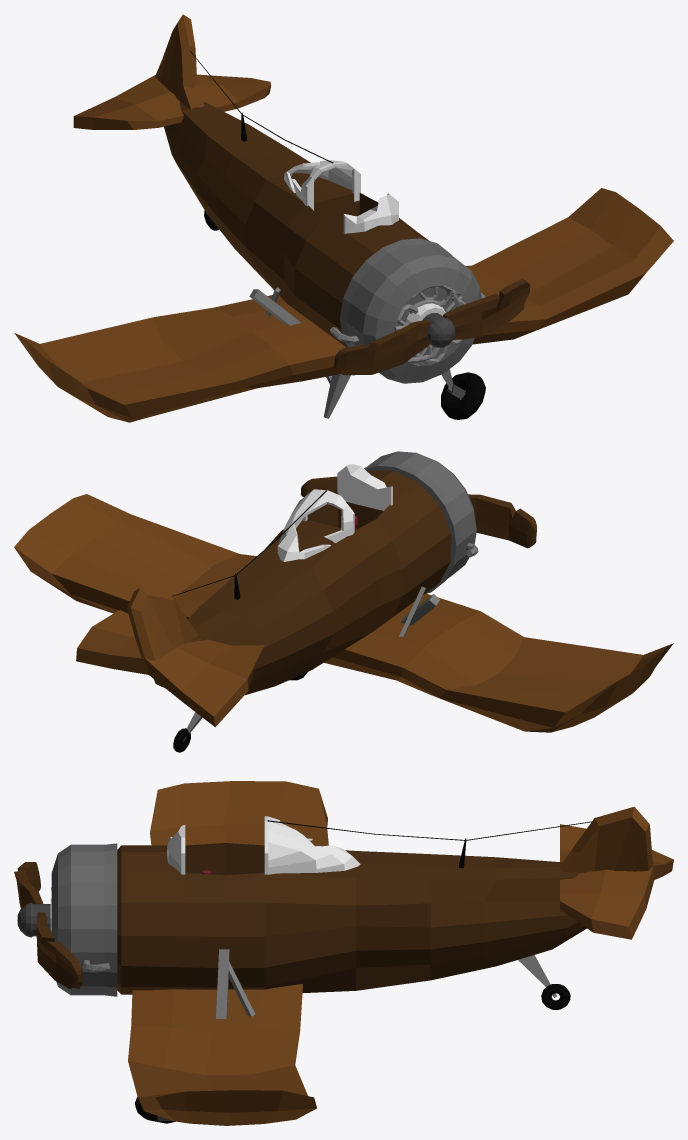
Rendered from plane_broken.fbx.
3 renders of one model, top to bottom at view 1: azimuth 30°, elevation 25°; view 2: azimuth 150°, elevation 25°; view 3: azimuth 270°, elevation 25°, orthographic. The views are drawn at different scales.
Parts seen in each view (by area): view 1: plane_b_LOD0; view 2: plane_b_LOD0; view 3: plane_b_LOD0.
Part boxes in pixels (left/top/right/bottom): plane_b_LOD0: left=14, top=14, right=673, bottom=422; plane_b_LOD0: left=14, top=451, right=673, bottom=752; plane_b_LOD0: left=14, top=781, right=673, bottom=1125.
Size of what is drawn, in the model's own units: 871 by 367 by 768.
